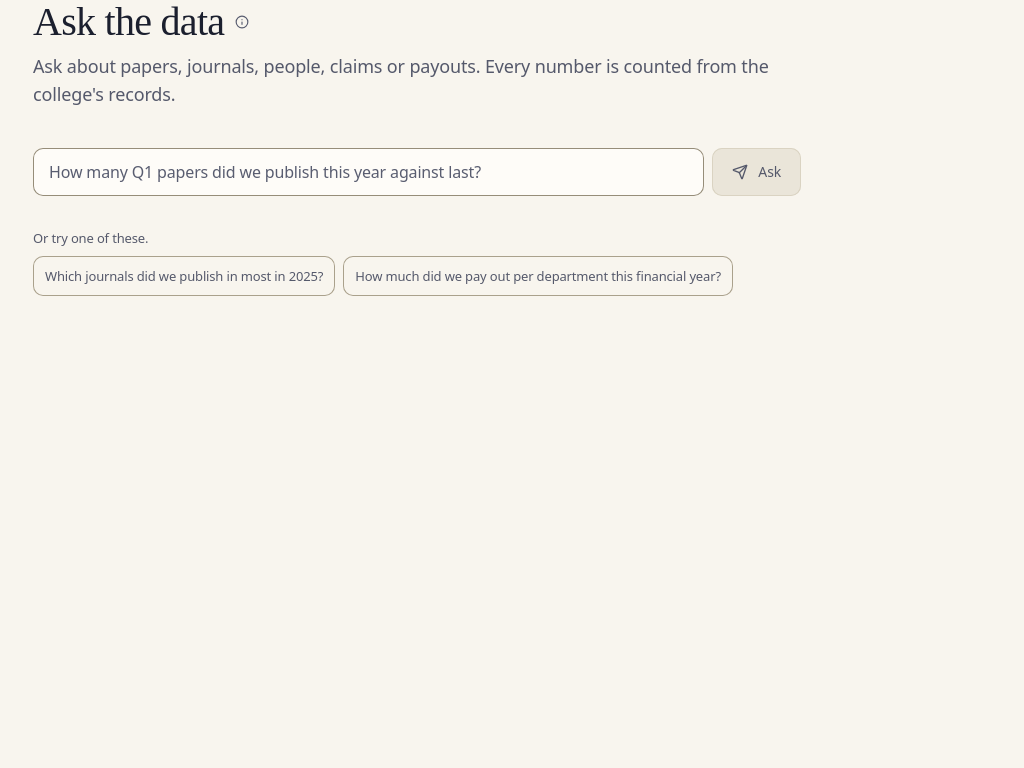
Test: Ask the data › links each kind of row to where it lives
Type "Who leads in CSE?" into the field named "Your question" at (369,172), box left=33, top=148, right=704, bottom=196
Then press Enter
(page scrolled)
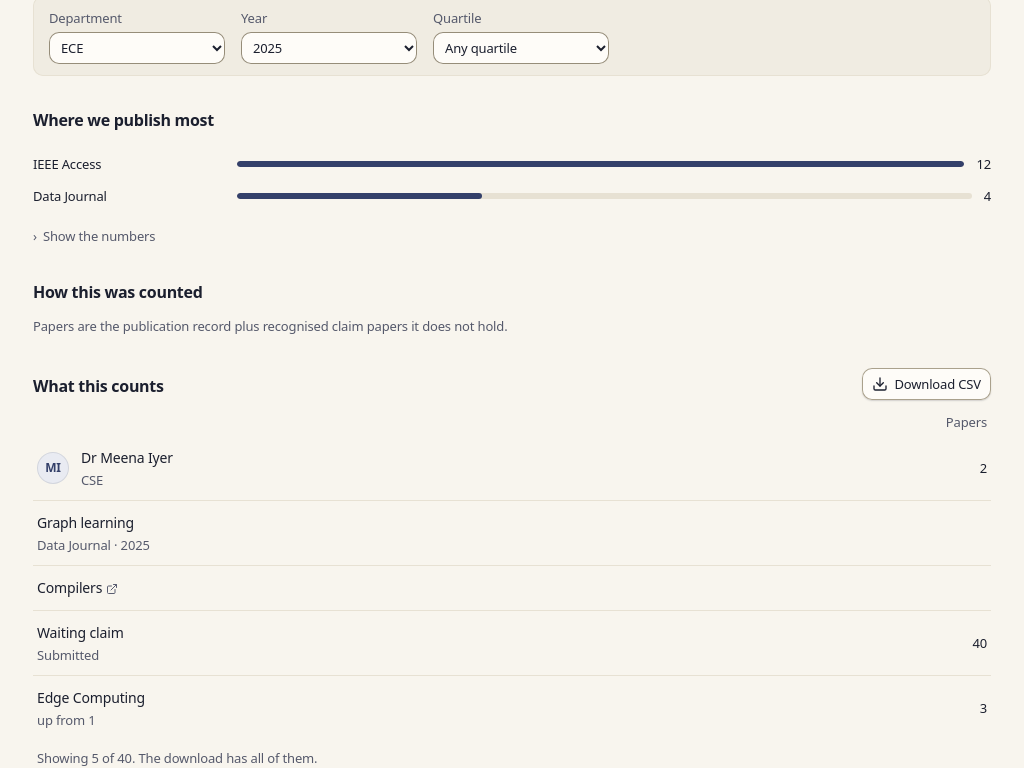
Expected: the text "Showing 5 of 40. The download has all of them." is shown, left=37, top=749, right=317, bottom=767
